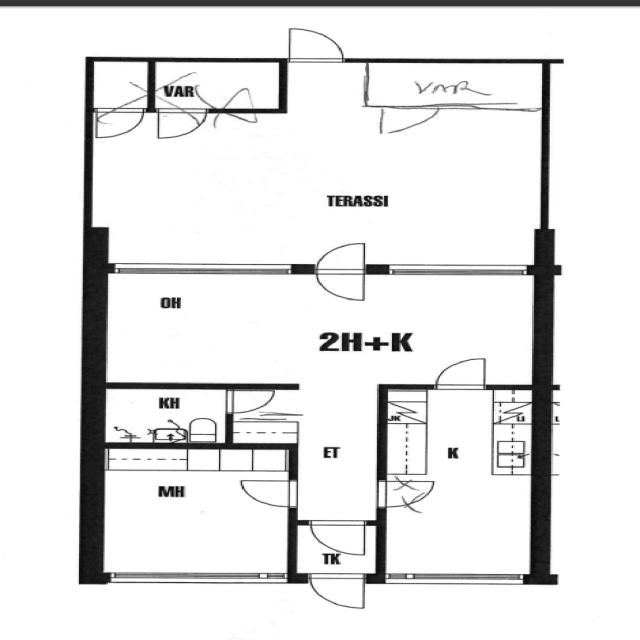door: (376, 388, 540, 580), (357, 65, 547, 112), (309, 240, 376, 305), (279, 24, 356, 64), (303, 571, 373, 612), (303, 518, 374, 558), (372, 471, 439, 513), (231, 475, 305, 511), (215, 384, 288, 418), (428, 353, 495, 390), (148, 106, 215, 142), (370, 103, 445, 135), (88, 106, 150, 140)
window: (110, 256, 302, 280), (100, 569, 284, 589), (377, 258, 534, 278), (384, 571, 533, 587)
zone: (85, 106, 545, 275), (89, 272, 538, 384), (378, 385, 538, 580), (92, 444, 297, 577), (365, 63, 549, 110), (95, 386, 232, 443), (151, 60, 284, 111), (87, 59, 152, 110)
